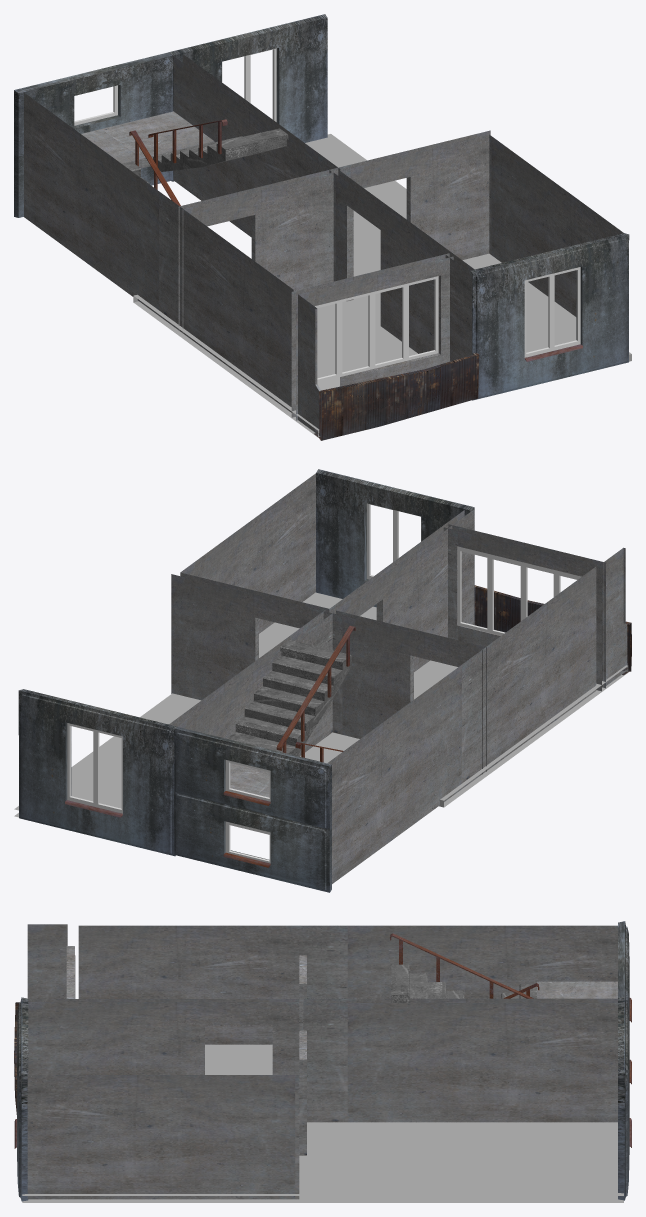
Rendered from floor2-s1.gltf.
The picture shows the model from 3 angles, top to bottom: view 1: azimuth 30°, elevation 25°; view 2: azimuth 150°, elevation 25°; view 3: azimuth 270°, elevation 25°; orthographic projection.
Parts seen in each view (by area): view 1: Plane140, Box423, Plane138, Box380, Box432, Plane139, Box433, Plane139.003, Box434, Plane139.004; view 2: Plane140, Box423, Plane138, Box433, Plane139, Box380, Box434, Plane139.004, Box432, Box397, Plane139.003; view 3: Plane140, Plane138, Box423, Box433, Box432, Box434.
Boxes of the visible parts, x1=… form: Plane140: x1=24, y1=54, x2=623, y2=436; Box423: x1=14, y1=14, x2=629, y2=400; Plane138: x1=133, y1=134, x2=631, y2=437; Box380: x1=314, y1=353, x2=479, y2=440; Box432: x1=81, y1=111, x2=213, y2=168; Plane139: x1=315, y1=276, x2=438, y2=390; Box433: x1=122, y1=128, x2=288, y2=184; Plane139.003: x1=524, y1=267, x2=580, y2=357; Box434: x1=129, y1=119, x2=227, y2=206; Plane139.004: x1=222, y1=48, x2=276, y2=121; Plane140: x1=169, y1=473, x2=627, y2=883; Box423: x1=18, y1=469, x2=474, y2=892; Plane138: x1=14, y1=592, x2=628, y2=817; Box433: x1=227, y1=640, x2=351, y2=755; Plane139: x1=457, y1=546, x2=581, y2=635; Box380: x1=474, y1=585, x2=631, y2=675; Box434: x1=276, y1=625, x2=355, y2=762; Plane139.004: x1=67, y1=723, x2=122, y2=813; Box432: x1=230, y1=763, x2=269, y2=797; Box397: x1=65, y1=791, x2=270, y2=867; Plane139.003: x1=367, y1=503, x2=421, y2=579; Plane140: x1=27, y1=924, x2=617, y2=1199; Plane138: x1=22, y1=1044, x2=623, y2=1202; Box423: x1=17, y1=921, x2=629, y2=1201; Box433: x1=391, y1=964, x2=536, y2=1002; Box432: x1=537, y1=981, x2=617, y2=998; Box434: x1=390, y1=933, x2=539, y2=998.
Bounding box in the file's own units: 6.76 × 3.27 × 11.39.
Materials: 7 (5 with a texture image).
